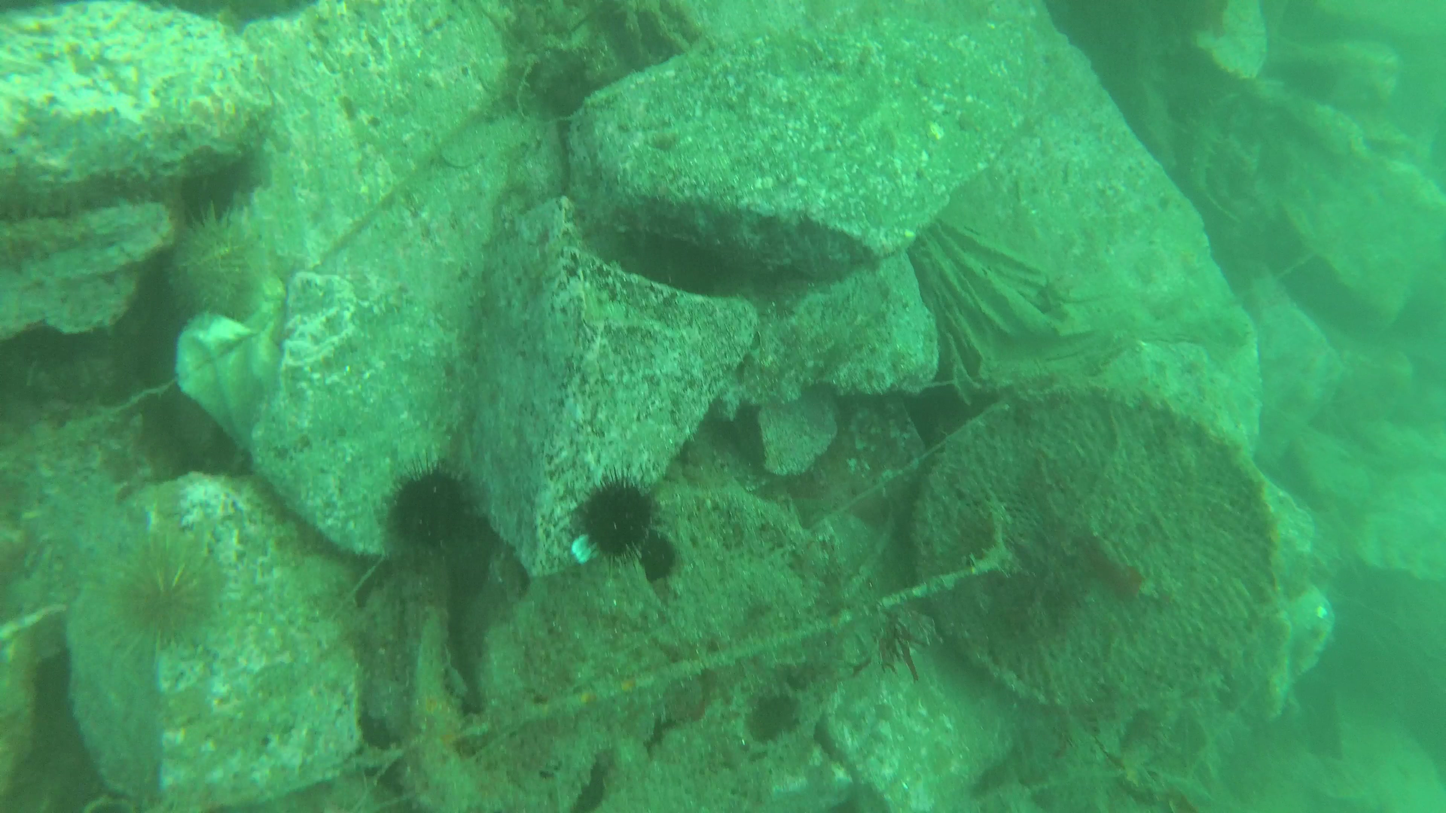echinus: (0, 168, 181, 225), (1174, 99, 1224, 198), (0, 225, 110, 268), (1208, 121, 1239, 195)
starfish: (92, 515, 235, 658), (162, 207, 264, 323), (375, 464, 483, 567), (570, 464, 666, 567), (740, 677, 808, 746), (639, 536, 680, 582)
